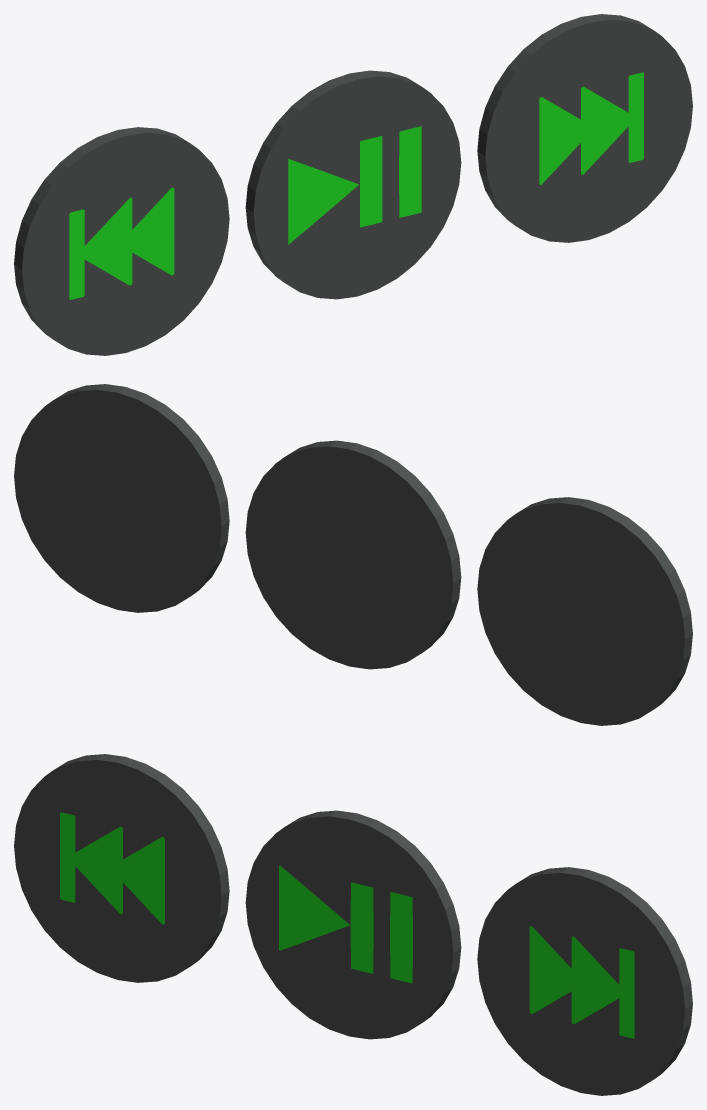
Rendered from bottombar.fbx.
The picture shows the model from 3 angles, top to bottom: view 1: azimuth 30°, elevation 25°; view 2: azimuth 150°, elevation 25°; view 3: azimuth 330°, elevation 25°; orthographic projection.
Parts seen in each view (by area): view 1: Previous; view 2: Previous; view 3: Previous.
Boxes of the visible parts, x1,y1,x2,y2 form: Previous: [14, 14, 692, 355]; Previous: [14, 384, 692, 725]; Previous: [14, 754, 692, 1095].
Size of the model in its own units: 96.94 by 30 by 2.18.
